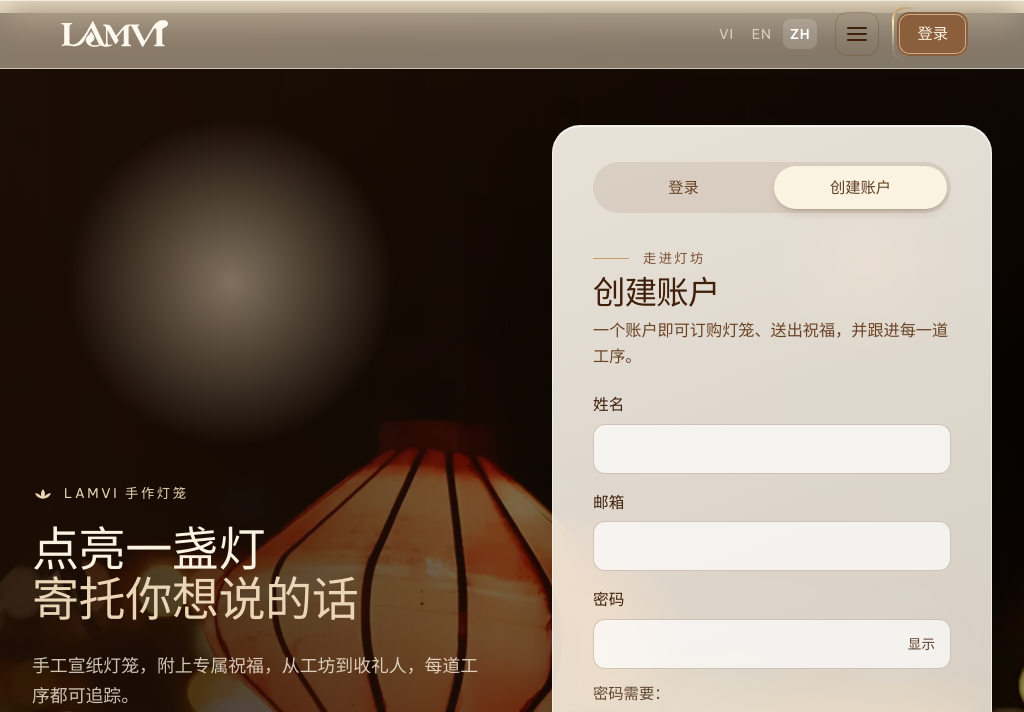
Test: Tài khoản (FR-ACC-001) › đăng ký cần xác nhận email → hiện hướng dẫn
The image size is (1024, 712).
Expected: the heading "创建账户" is shown, [593,274,720,313]
In the field labelled "邮箱": (772, 546) [593,521,951,571], type "an@example.com"
(page scrolled)
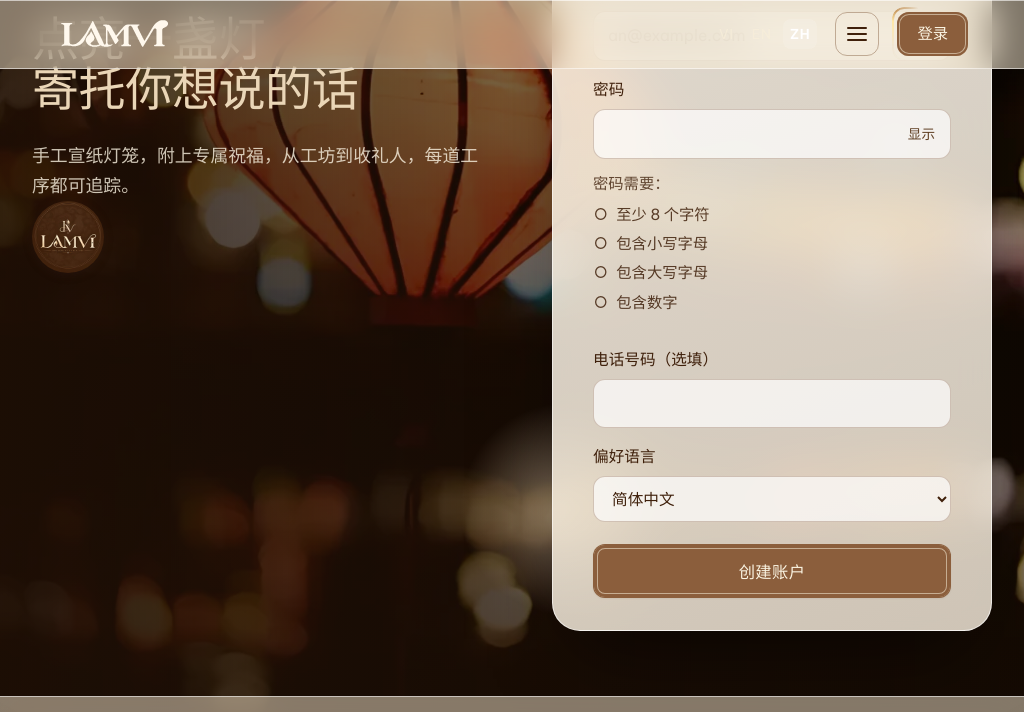
Click the button "创建账户": (772, 571) [593,544,951,598]
(page scrolled)
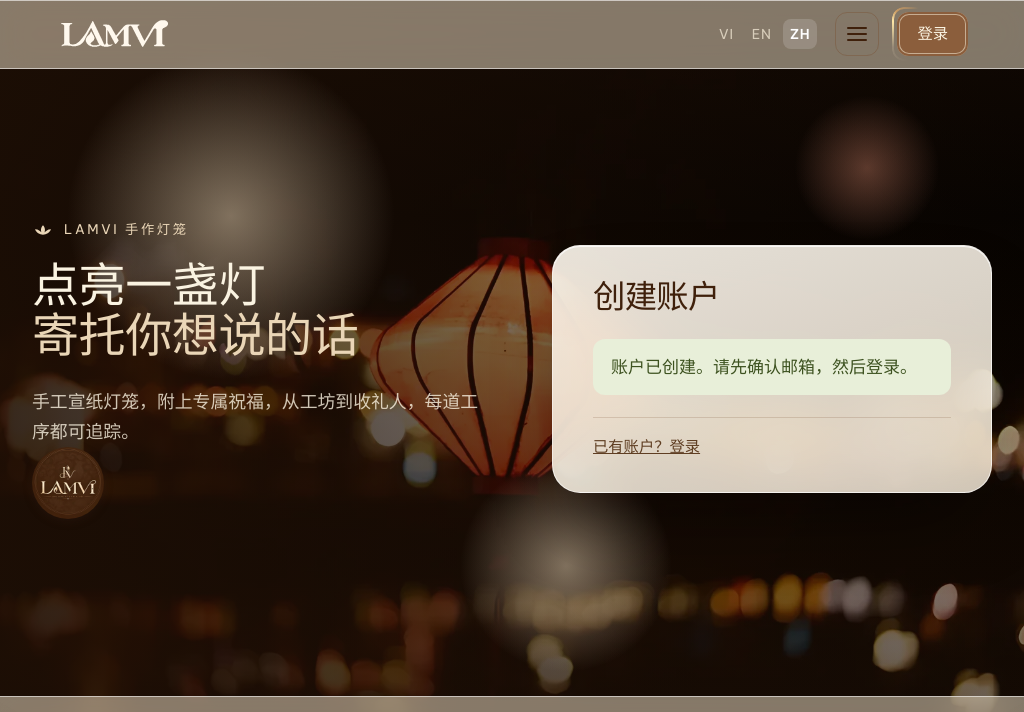
Expected: the message shows "账户已创建", [611,356,917,378]
